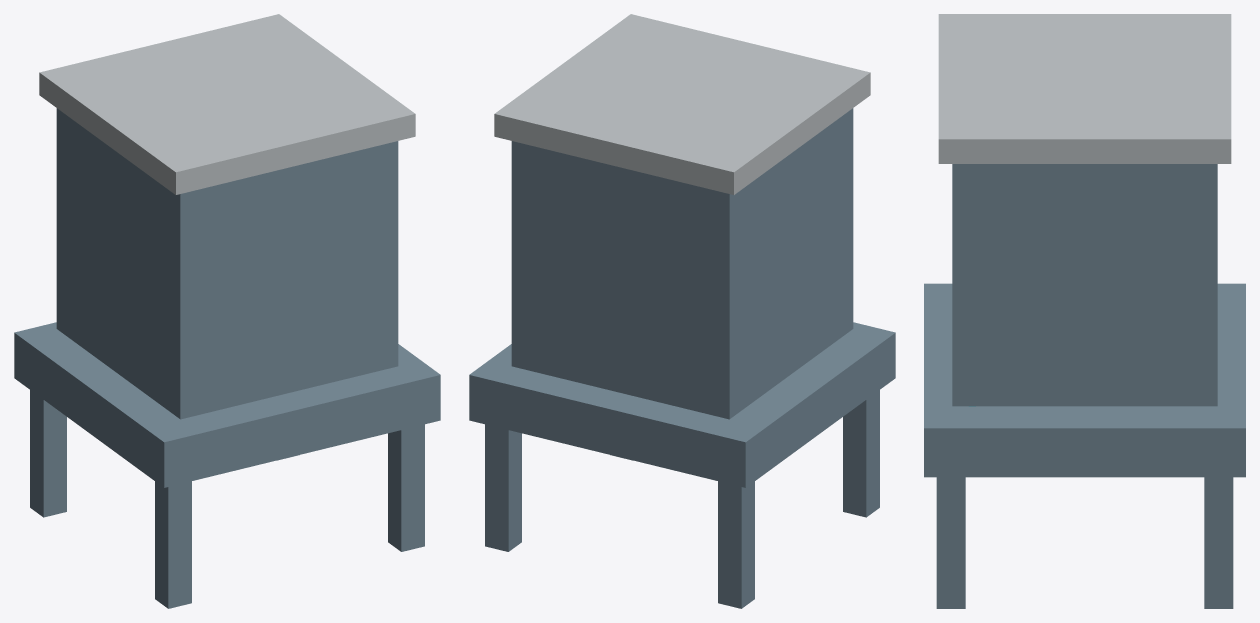
File: 02_L78_InterconnectWaferCassette.glb
3 views of the same model, side by side, from view 1: azimuth 30°, elevation 25°; view 2: azimuth 150°, elevation 25°; view 3: azimuth 270°, elevation 25° (orthographic). The views are drawn at different scales.
Parts seen in each view (by area): view 1: InterconnectWaferCassette_Node_0006, InterconnectWaferCassette_Node_0040, InterconnectWaferCassette_Node_0000, InterconnectWaferCassette_Node_0002, InterconnectWaferCassette_Node_0004, InterconnectWaferCassette_Node_0001; view 2: InterconnectWaferCassette_Node_0006, InterconnectWaferCassette_Node_0040, InterconnectWaferCassette_Node_0000, InterconnectWaferCassette_Node_0001, InterconnectWaferCassette_Node_0003, InterconnectWaferCassette_Node_0002; view 3: InterconnectWaferCassette_Node_0006, InterconnectWaferCassette_Node_0040, InterconnectWaferCassette_Node_0000, InterconnectWaferCassette_Node_0003, InterconnectWaferCassette_Node_0004.
Part boxes in pixels (box(x1,y1,x2,y2)): InterconnectWaferCassette_Node_0006: box(56, 108, 398, 419); InterconnectWaferCassette_Node_0040: box(39, 14, 415, 194); InterconnectWaferCassette_Node_0000: box(14, 322, 440, 487); InterconnectWaferCassette_Node_0002: box(155, 481, 191, 608); InterconnectWaferCassette_Node_0004: box(388, 424, 424, 551); InterconnectWaferCassette_Node_0001: box(30, 390, 66, 517); InterconnectWaferCassette_Node_0006: box(511, 108, 853, 419); InterconnectWaferCassette_Node_0040: box(494, 14, 870, 194); InterconnectWaferCassette_Node_0000: box(469, 322, 895, 487); InterconnectWaferCassette_Node_0001: box(718, 481, 754, 608); InterconnectWaferCassette_Node_0003: box(485, 424, 521, 551); InterconnectWaferCassette_Node_0002: box(843, 390, 879, 517); InterconnectWaferCassette_Node_0006: box(952, 164, 1217, 406); InterconnectWaferCassette_Node_0040: box(938, 14, 1231, 163); InterconnectWaferCassette_Node_0000: box(924, 283, 1245, 477); InterconnectWaferCassette_Node_0003: box(1204, 477, 1233, 608); InterconnectWaferCassette_Node_0004: box(936, 477, 965, 608).
Size of the model in its own units: 1.65 by 2.47 by 1.55.
